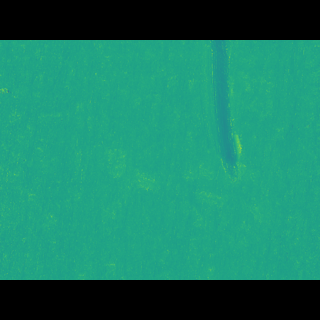Loch: (190, 69, 246, 182)
